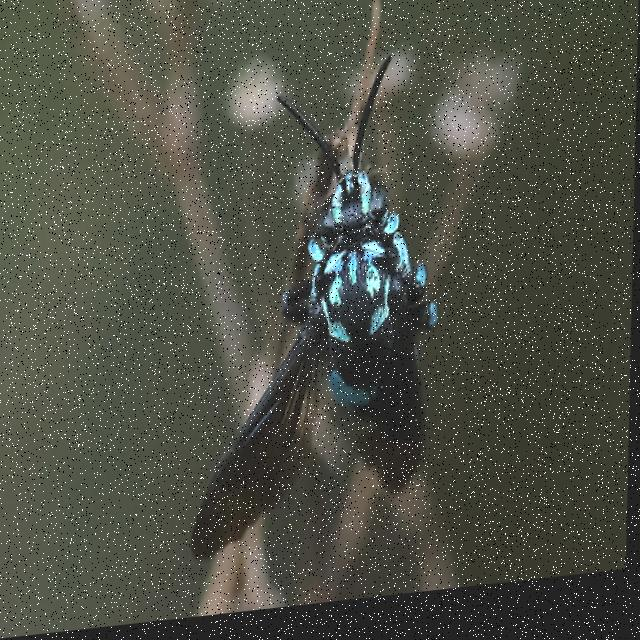Thyreus: (193, 52, 454, 584)
